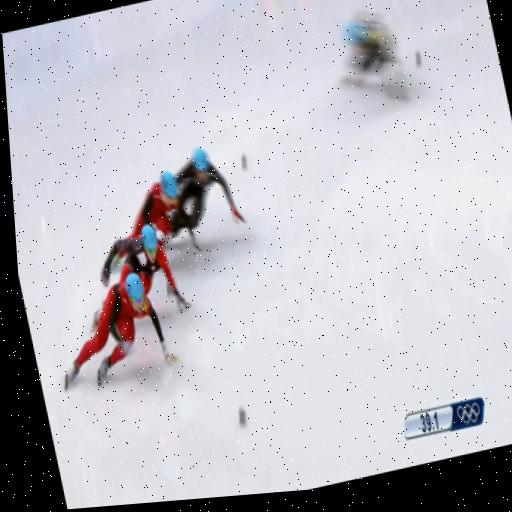Skater: (64, 273, 177, 390), (101, 225, 190, 308), (171, 148, 245, 247), (341, 13, 406, 96), (127, 170, 179, 241)
